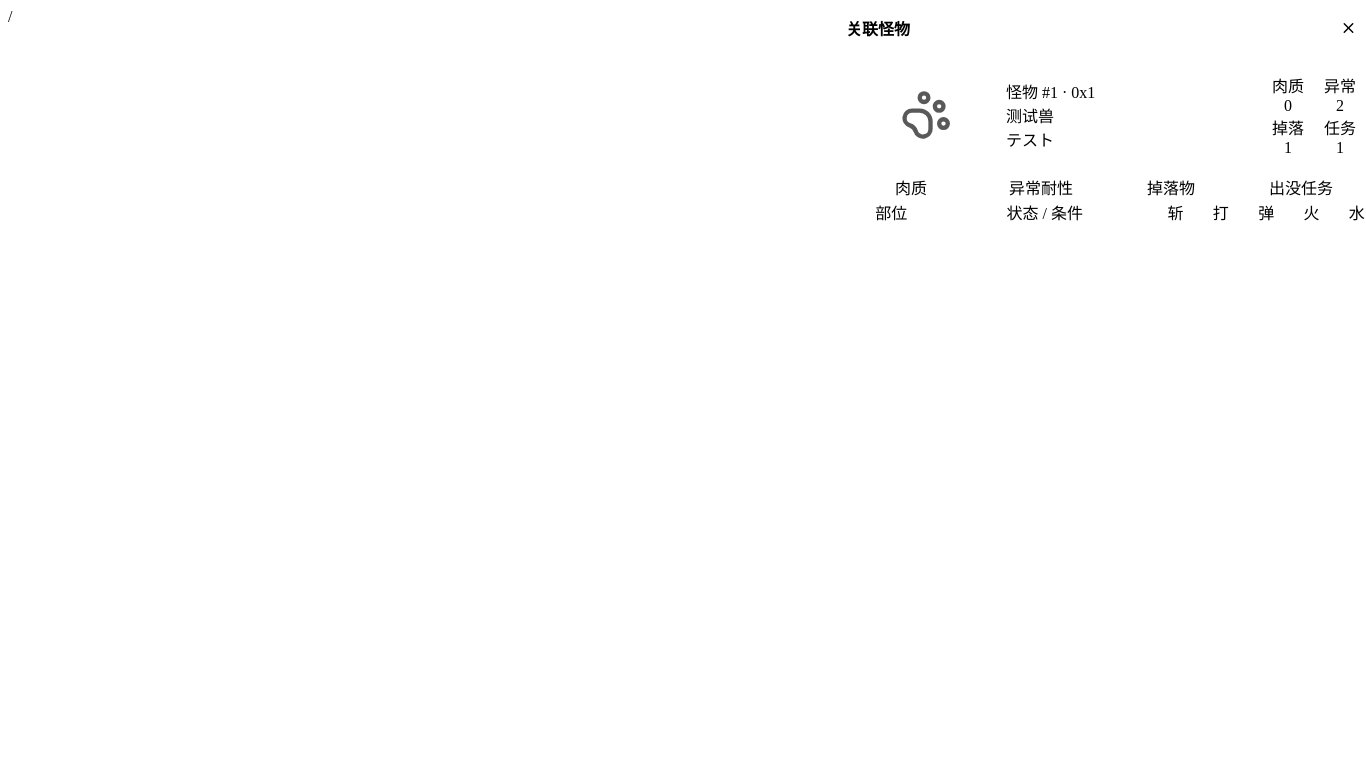
Scenario: P2G monster UI contracts › closes before locating a P2G quest in its catalog
Expected: the heading "测试兽" is shown, [1006, 108, 1054, 125]
Step 1. Click the tab "出没任务" → click(1301, 187), box [1236, 174, 1365, 200]
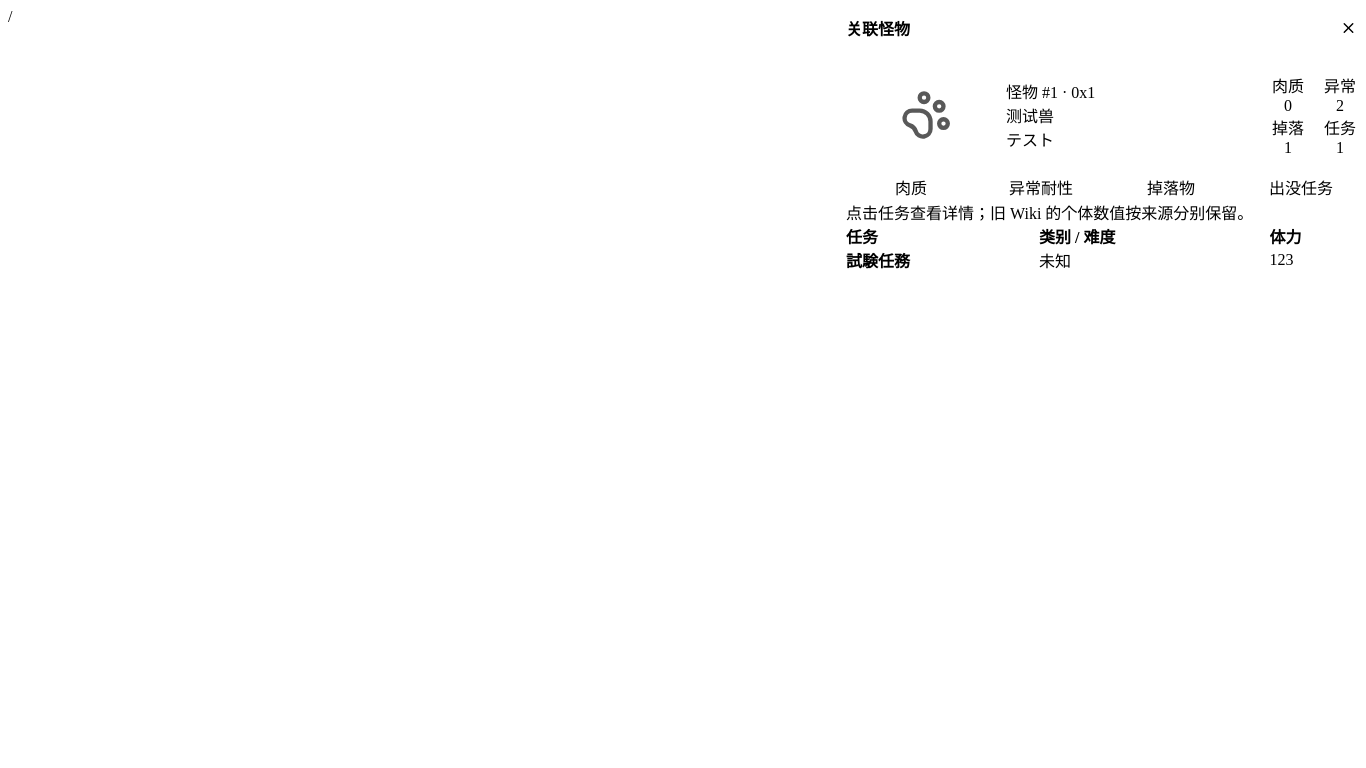
Step 2. Click the button "試験任務" → click(878, 260), box [846, 248, 910, 272]
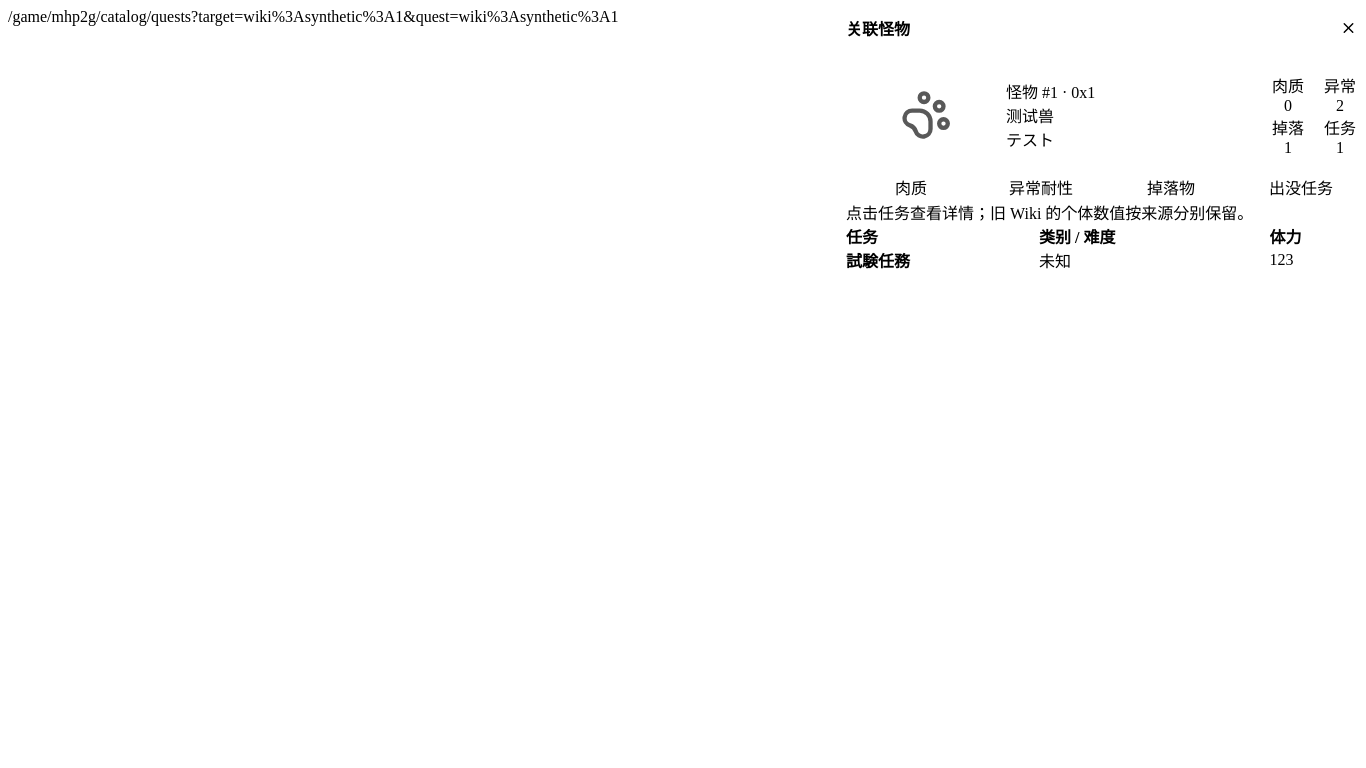
Now the text with test id "location" shows "/game/mhp2g/catalog/quests?target=wiki%3Asynthetic%3A1&quest=wiki%3Asynthetic%3A1", box [8, 8, 618, 25]
